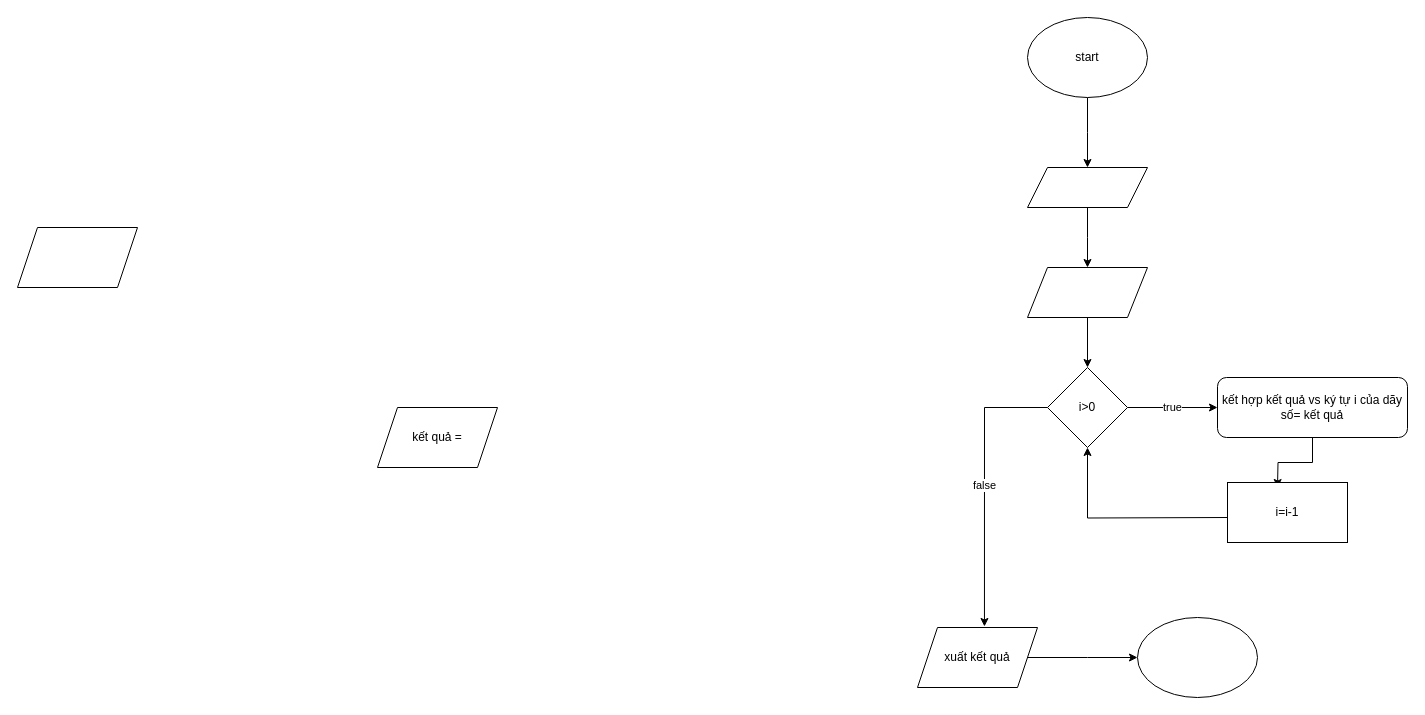
This 1425x715 diagram has some shape labels left out. Here are the shapes that lost their labels. From the top down, the centre of each, then its label:
At (x=1087, y=187): "nhập số abc".
At (x=1087, y=292): "i= độ dài dãy số ket qua =".
At (x=1197, y=657): "end".
